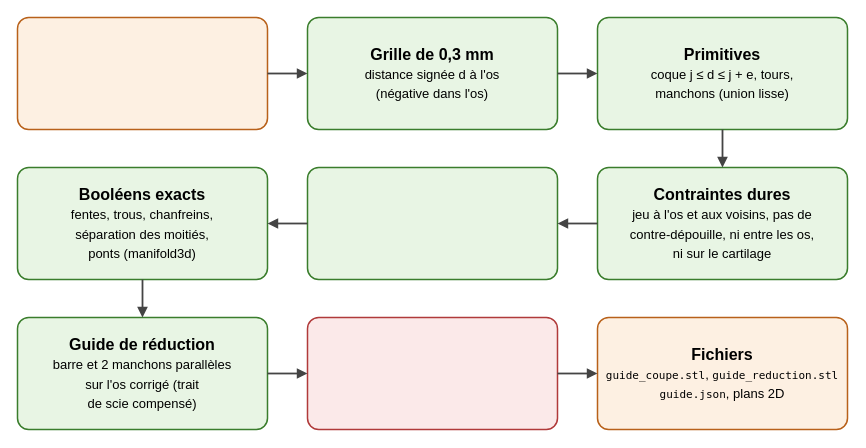
Image size: 866x448. Some labels were removed from this diagram. The shapes that lost their labels are listed below. From the top down, each one's centre as x and y in pixels, then its label:
pixel 142 73: Entrées prescription.json os planifié, os voisins, cartilage
pixel 432 223: Surface et solide matière trop fine retirée, isosurface F = 0 → solide exact
pixel 432 373: Contrôles indépendants jeu mesuré, retrait, appui, étanchéité, voisins…
